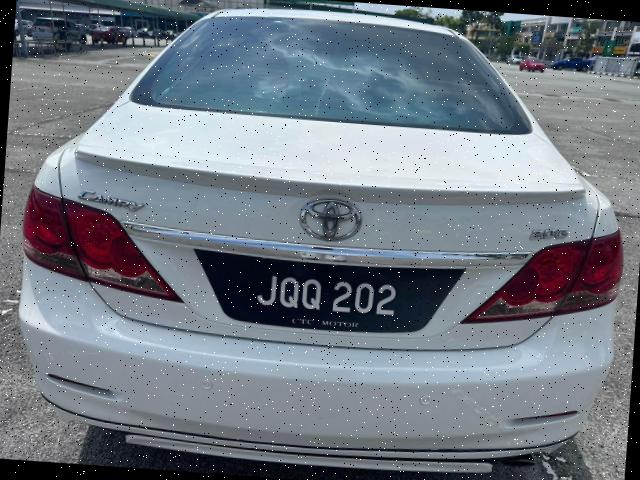License_Plate: (239, 258, 410, 324)
car: (5, 1, 640, 477)
